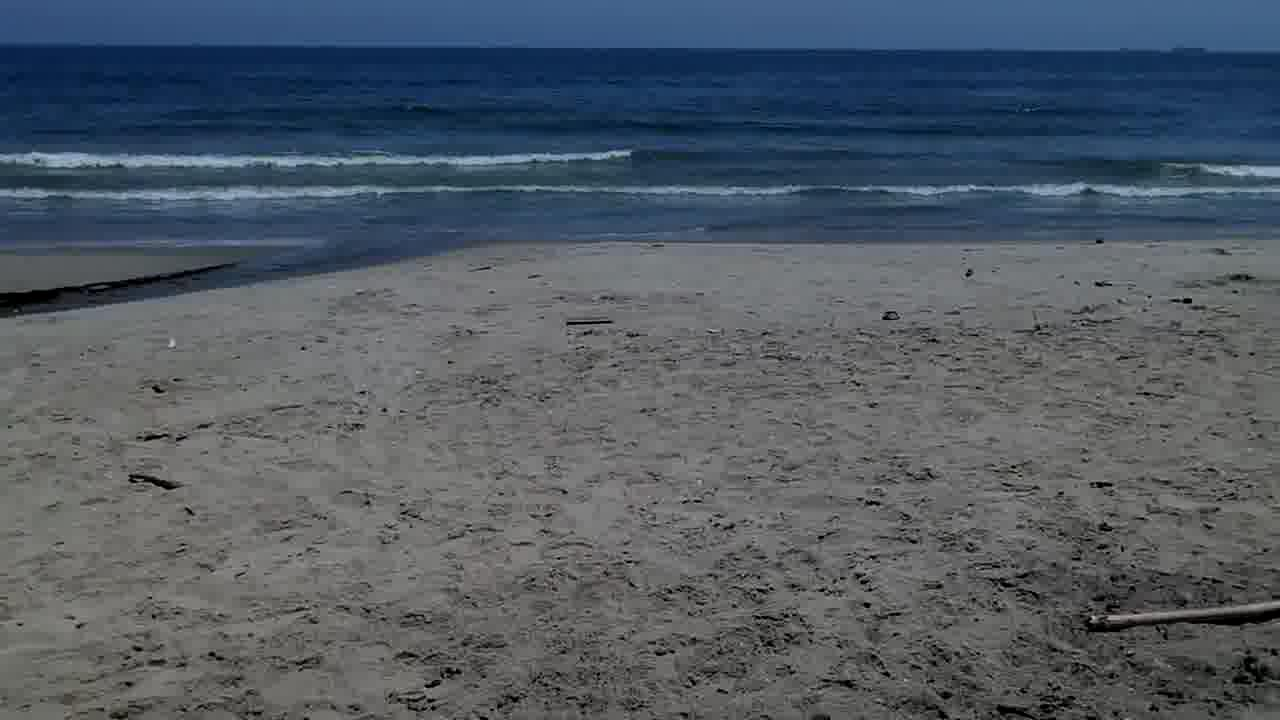obj: (1084, 592, 1276, 637), (119, 474, 184, 490), (565, 312, 612, 326)
sand/background: (0, 0, 1279, 318)
